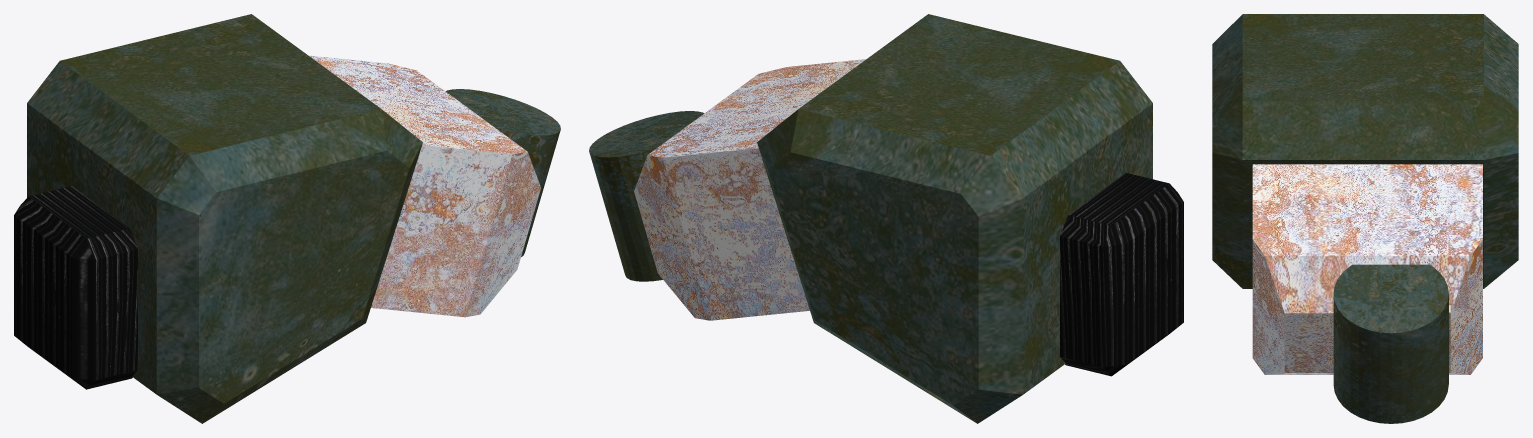
Rendered from brazo_sup_izq.obj.
The picture shows the model from 3 angles, left to right: view 1: azimuth 30°, elevation 25°; view 2: azimuth 150°, elevation 25°; view 3: azimuth 270°, elevation 25°; orthographic projection. The views are drawn at different scales.
Parts seen in each view (by area): view 1: brazo_sup_izq; view 2: brazo_sup_izq; view 3: brazo_sup_izq.
Boxes of the visible parts, x1=… form: brazo_sup_izq: x1=14, y1=14, x2=560, y2=423; brazo_sup_izq: x1=589, y1=14, x2=1183, y2=423; brazo_sup_izq: x1=1212, y1=14, x2=1518, y2=423.
Bounding box in the file's own units: 3.95 × 1.92 × 2.11.
3 materials, 3 textured.
